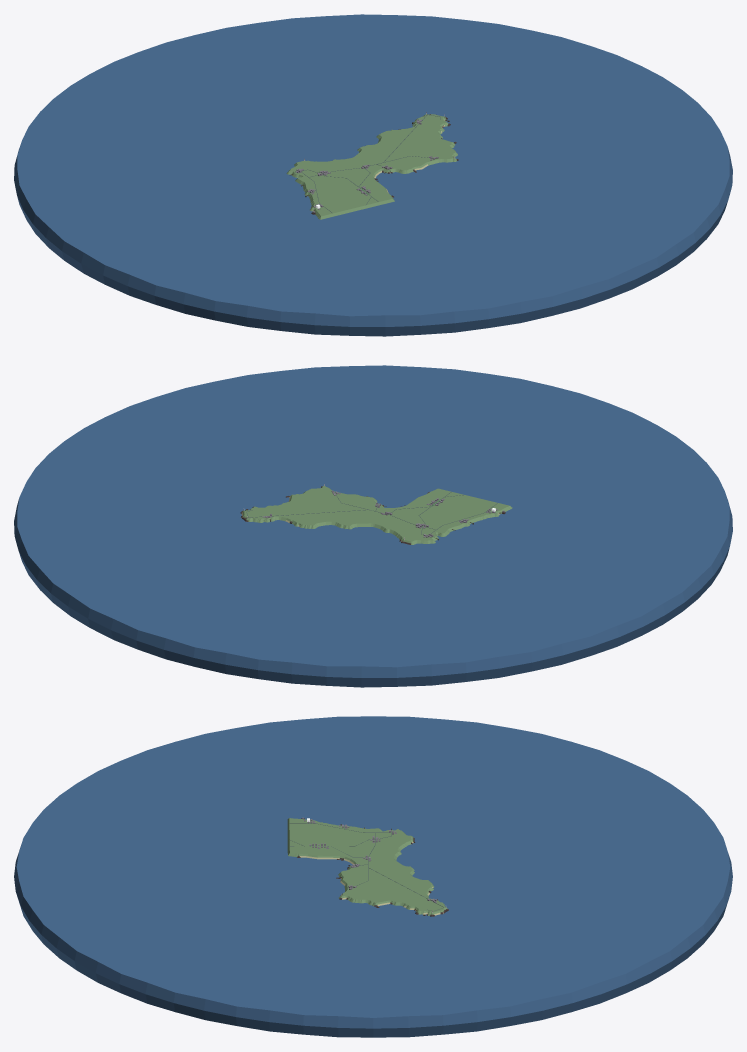
The picture shows the model from 3 angles, top to bottom: view 1: azimuth 30°, elevation 25°; view 2: azimuth 150°, elevation 25°; view 3: azimuth 270°, elevation 25°; orthographic projection.
Parts seen in each view (by area): view 1: Blue Background, Landmass; view 2: Blue Background, Landmass; view 3: Blue Background, Landmass.
Boxes of the visible parts, <box> form: Blue Background: <box>14,14,732,336</box>; Landmass: <box>286,114,457,219</box>; Blue Background: <box>14,365,732,687</box>; Landmass: <box>241,486,512,544</box>; Blue Background: <box>14,716,732,1037</box>; Landmass: <box>287,818,448,915</box>.
Size of the model in its own units: 13.01 by 0.5156 by 13.01.
